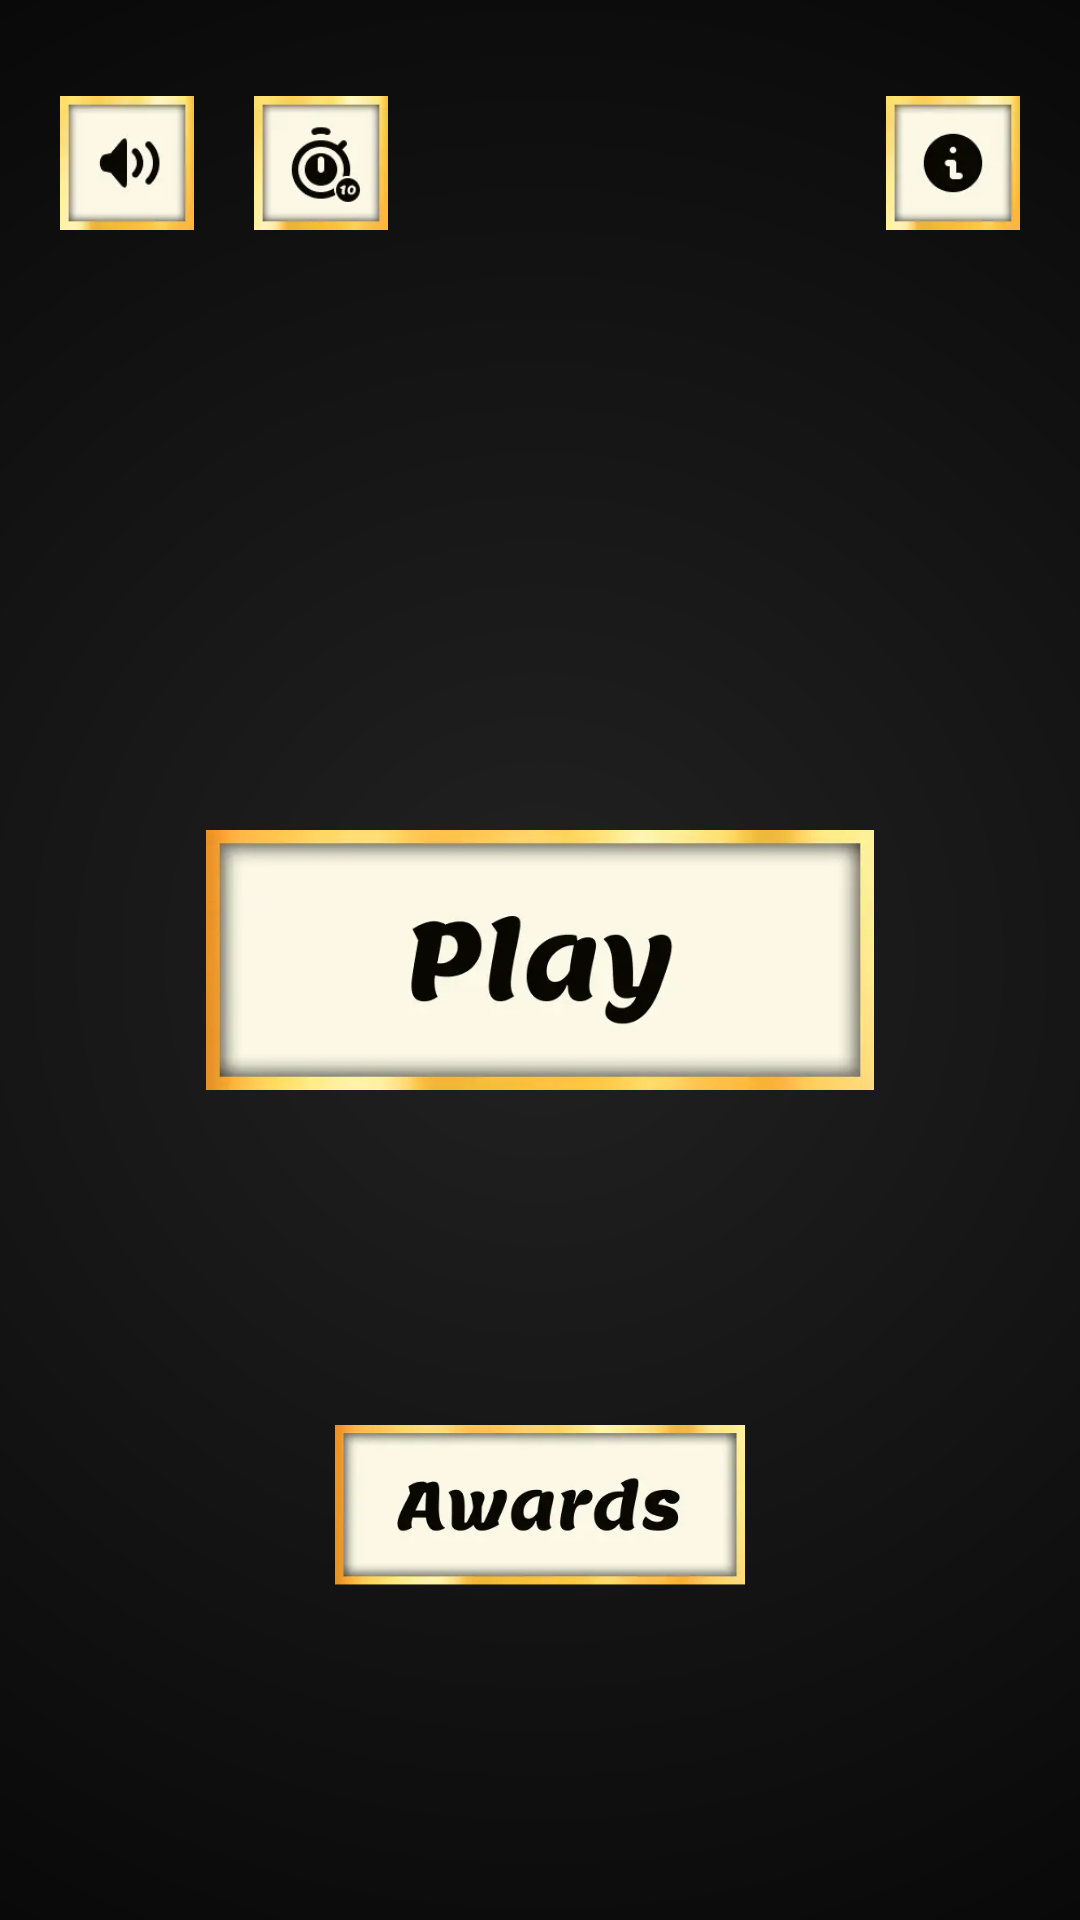

Icons on this 1080×1920 Android screen, each with its box as (x1=x1, y1=y1, x2=x2, y2=y2):
info: (x1=886, y1=96, x2=1020, y2=230)
sound on: (x1=60, y1=96, x2=194, y2=230)
timer: (x1=254, y1=96, x2=388, y2=230)
